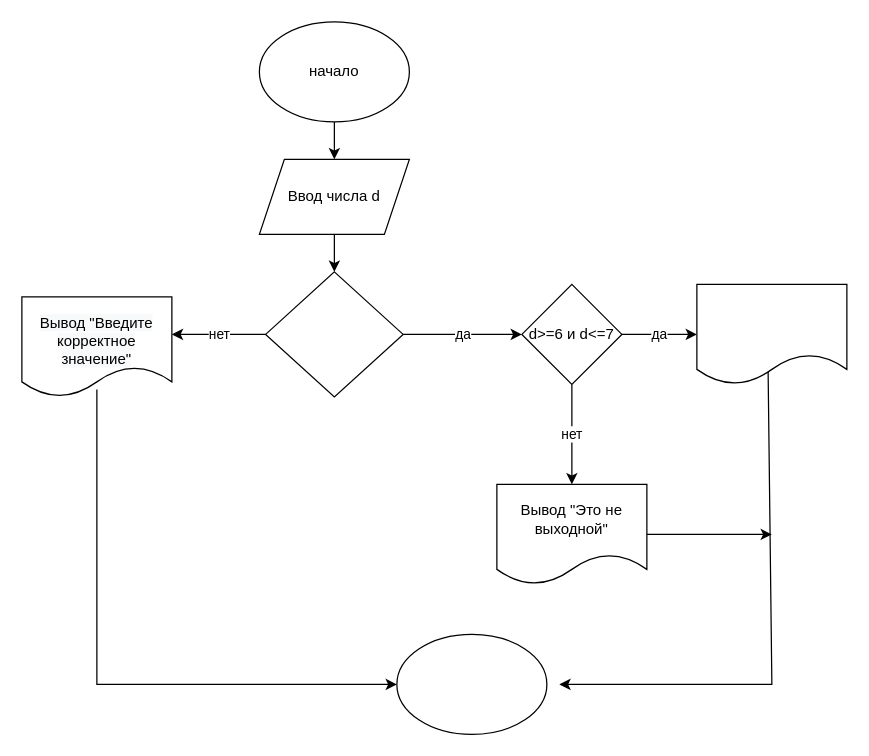
The diagram is 869 pixels wide and 756 high, and some of its shapes have lost their labels. Here are the shapes that lost their labels. From the top down, the box of each, then its label:
(264, 271, 403, 397): d>=1 и d<=7
(696, 283, 847, 384): Вывод "Это выходной!"
(396, 633, 547, 734): конец
